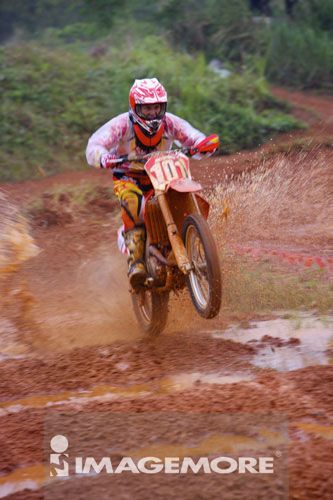helmet: (128, 72, 175, 130)
